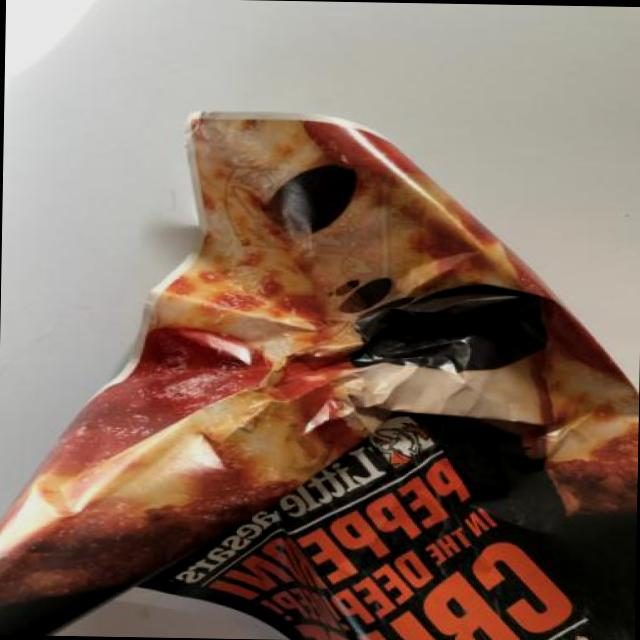paper: (49, 132, 640, 640)
